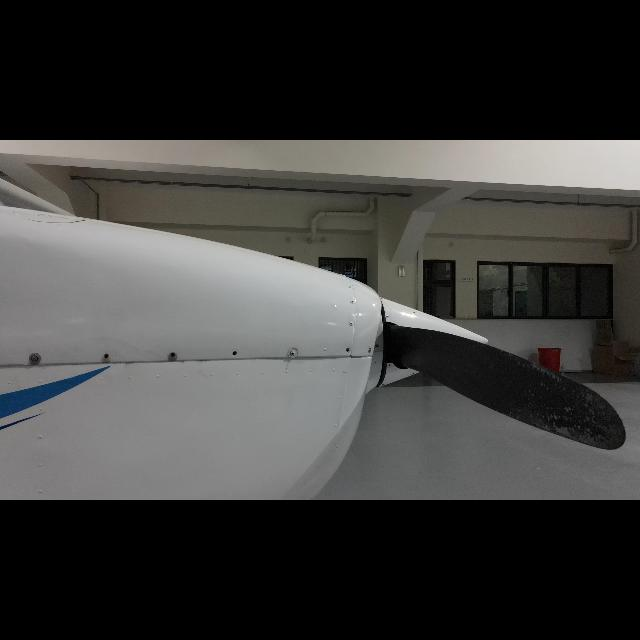Missing Fastener: (230, 350, 238, 358), (102, 352, 110, 358), (170, 351, 176, 357), (345, 348, 351, 354)
